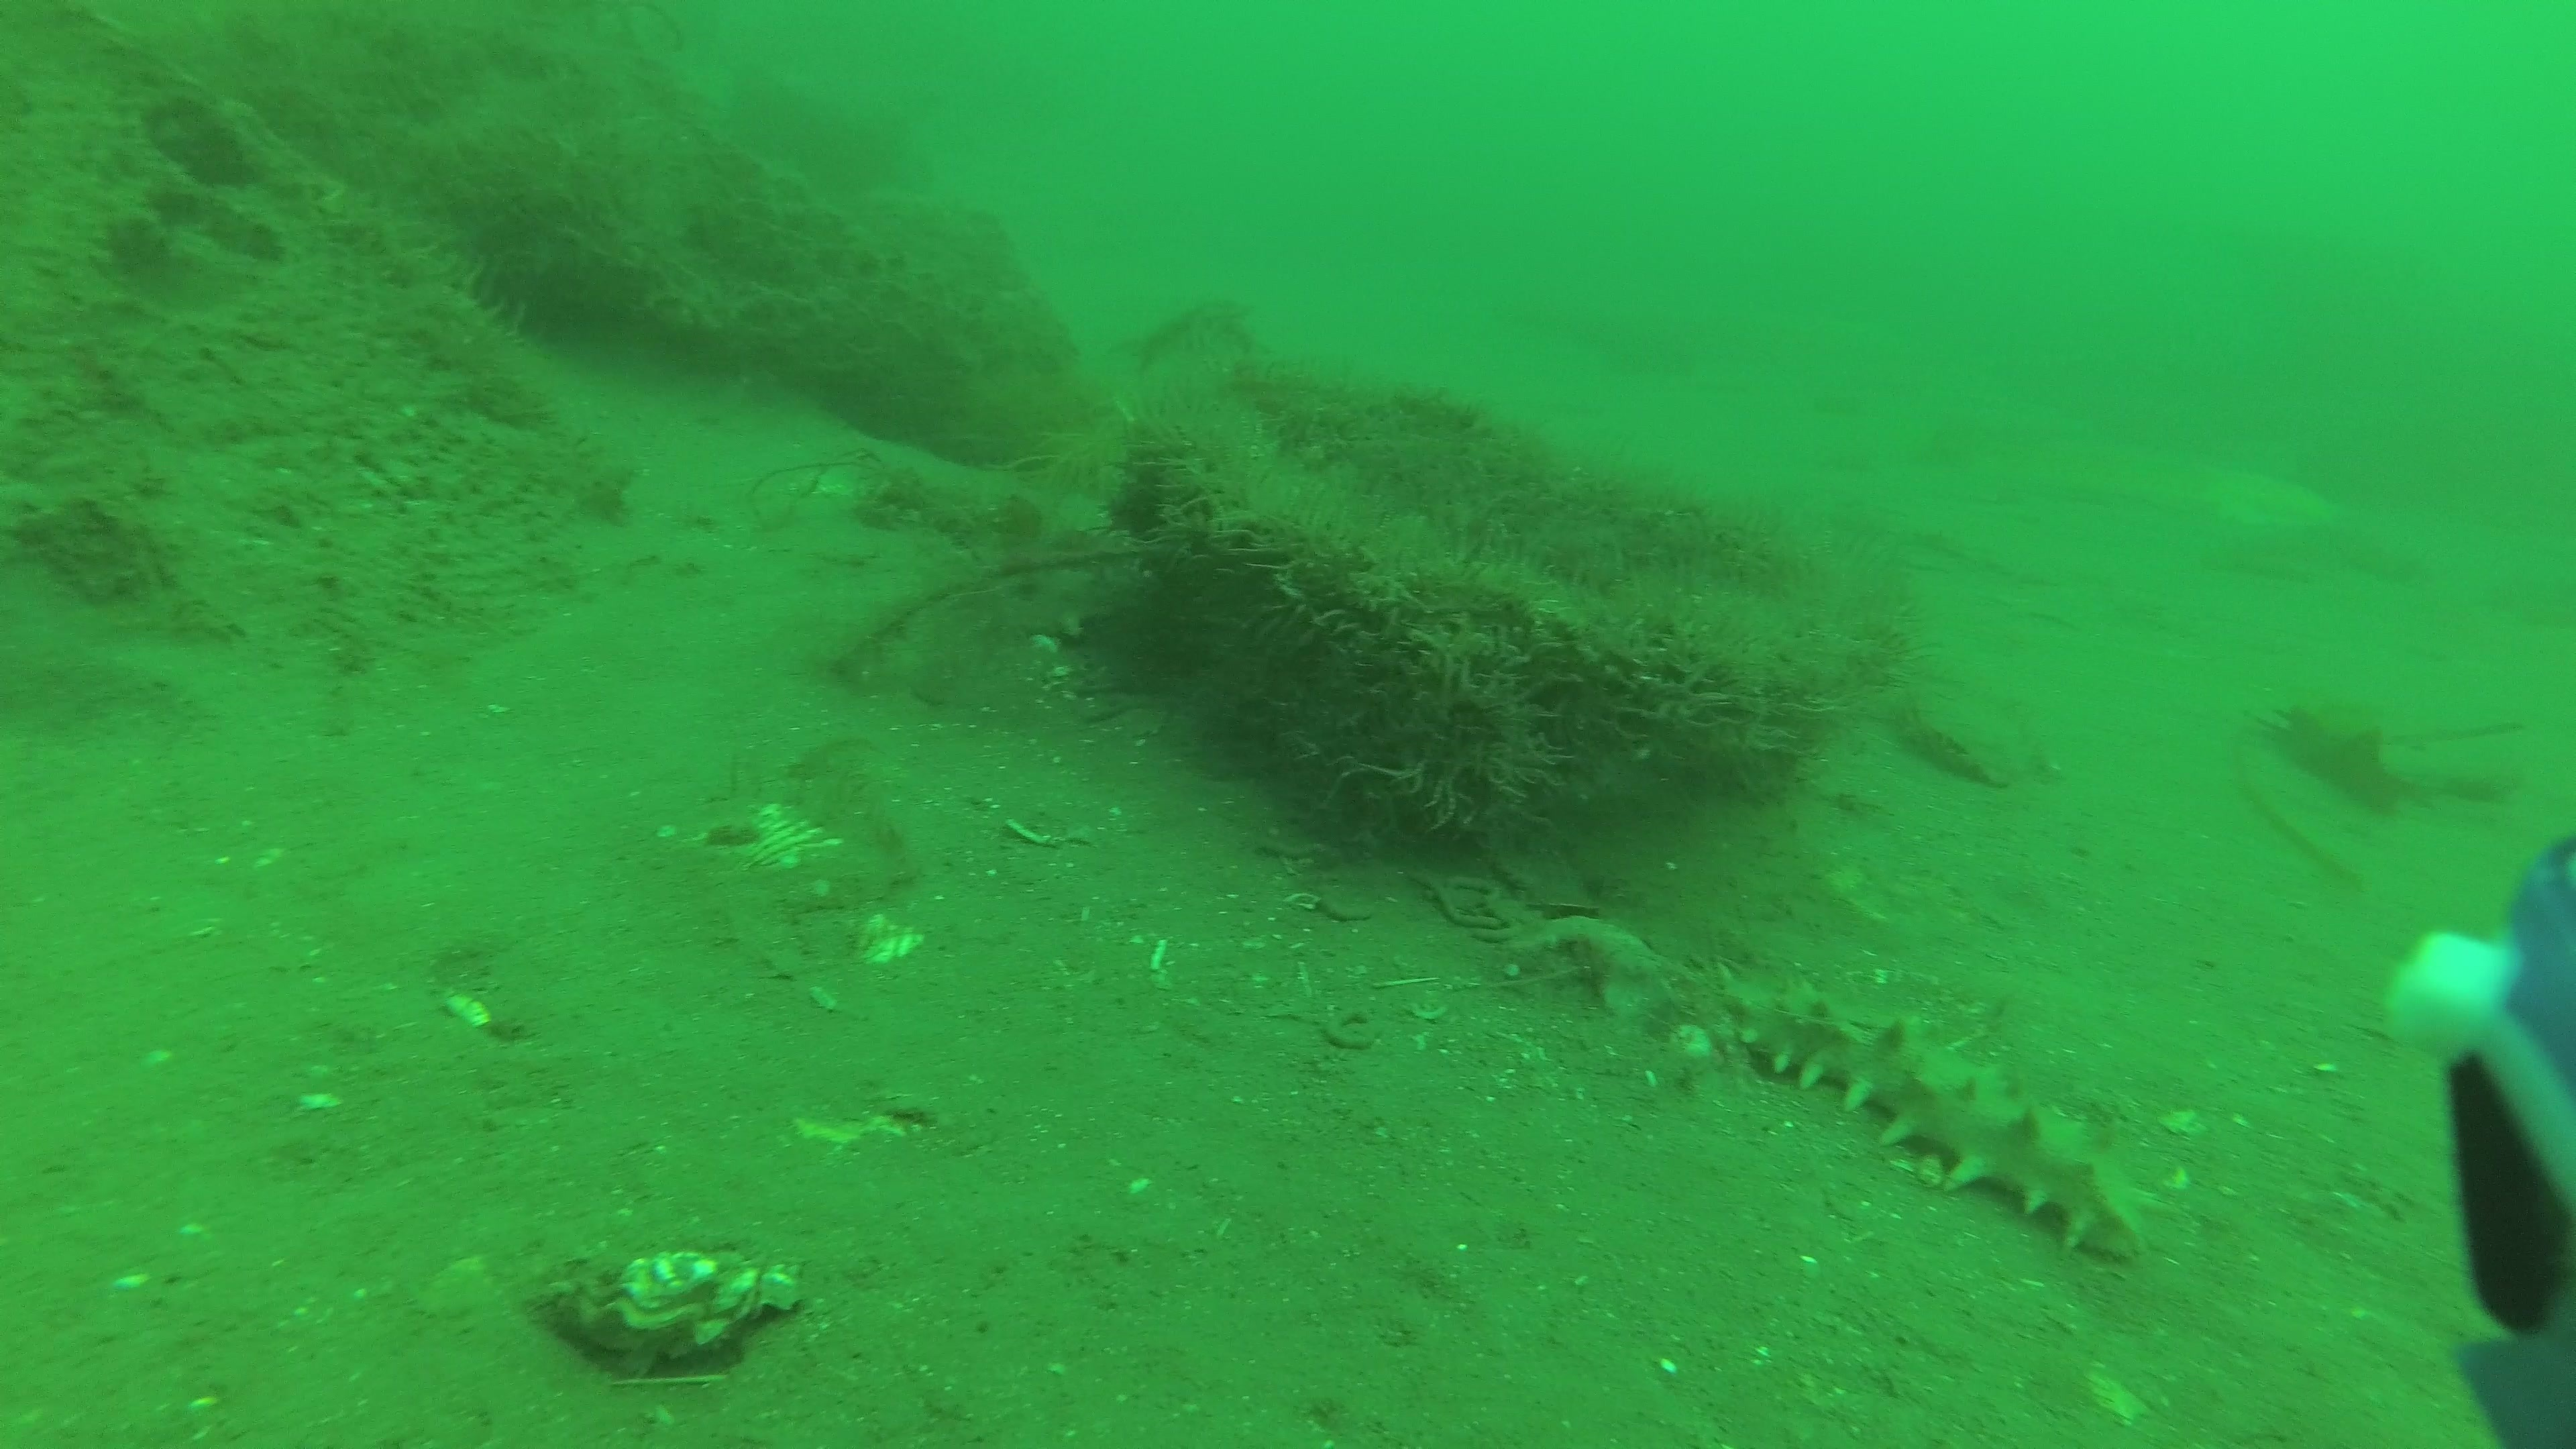holothurian: (1718, 973, 2164, 1272)
